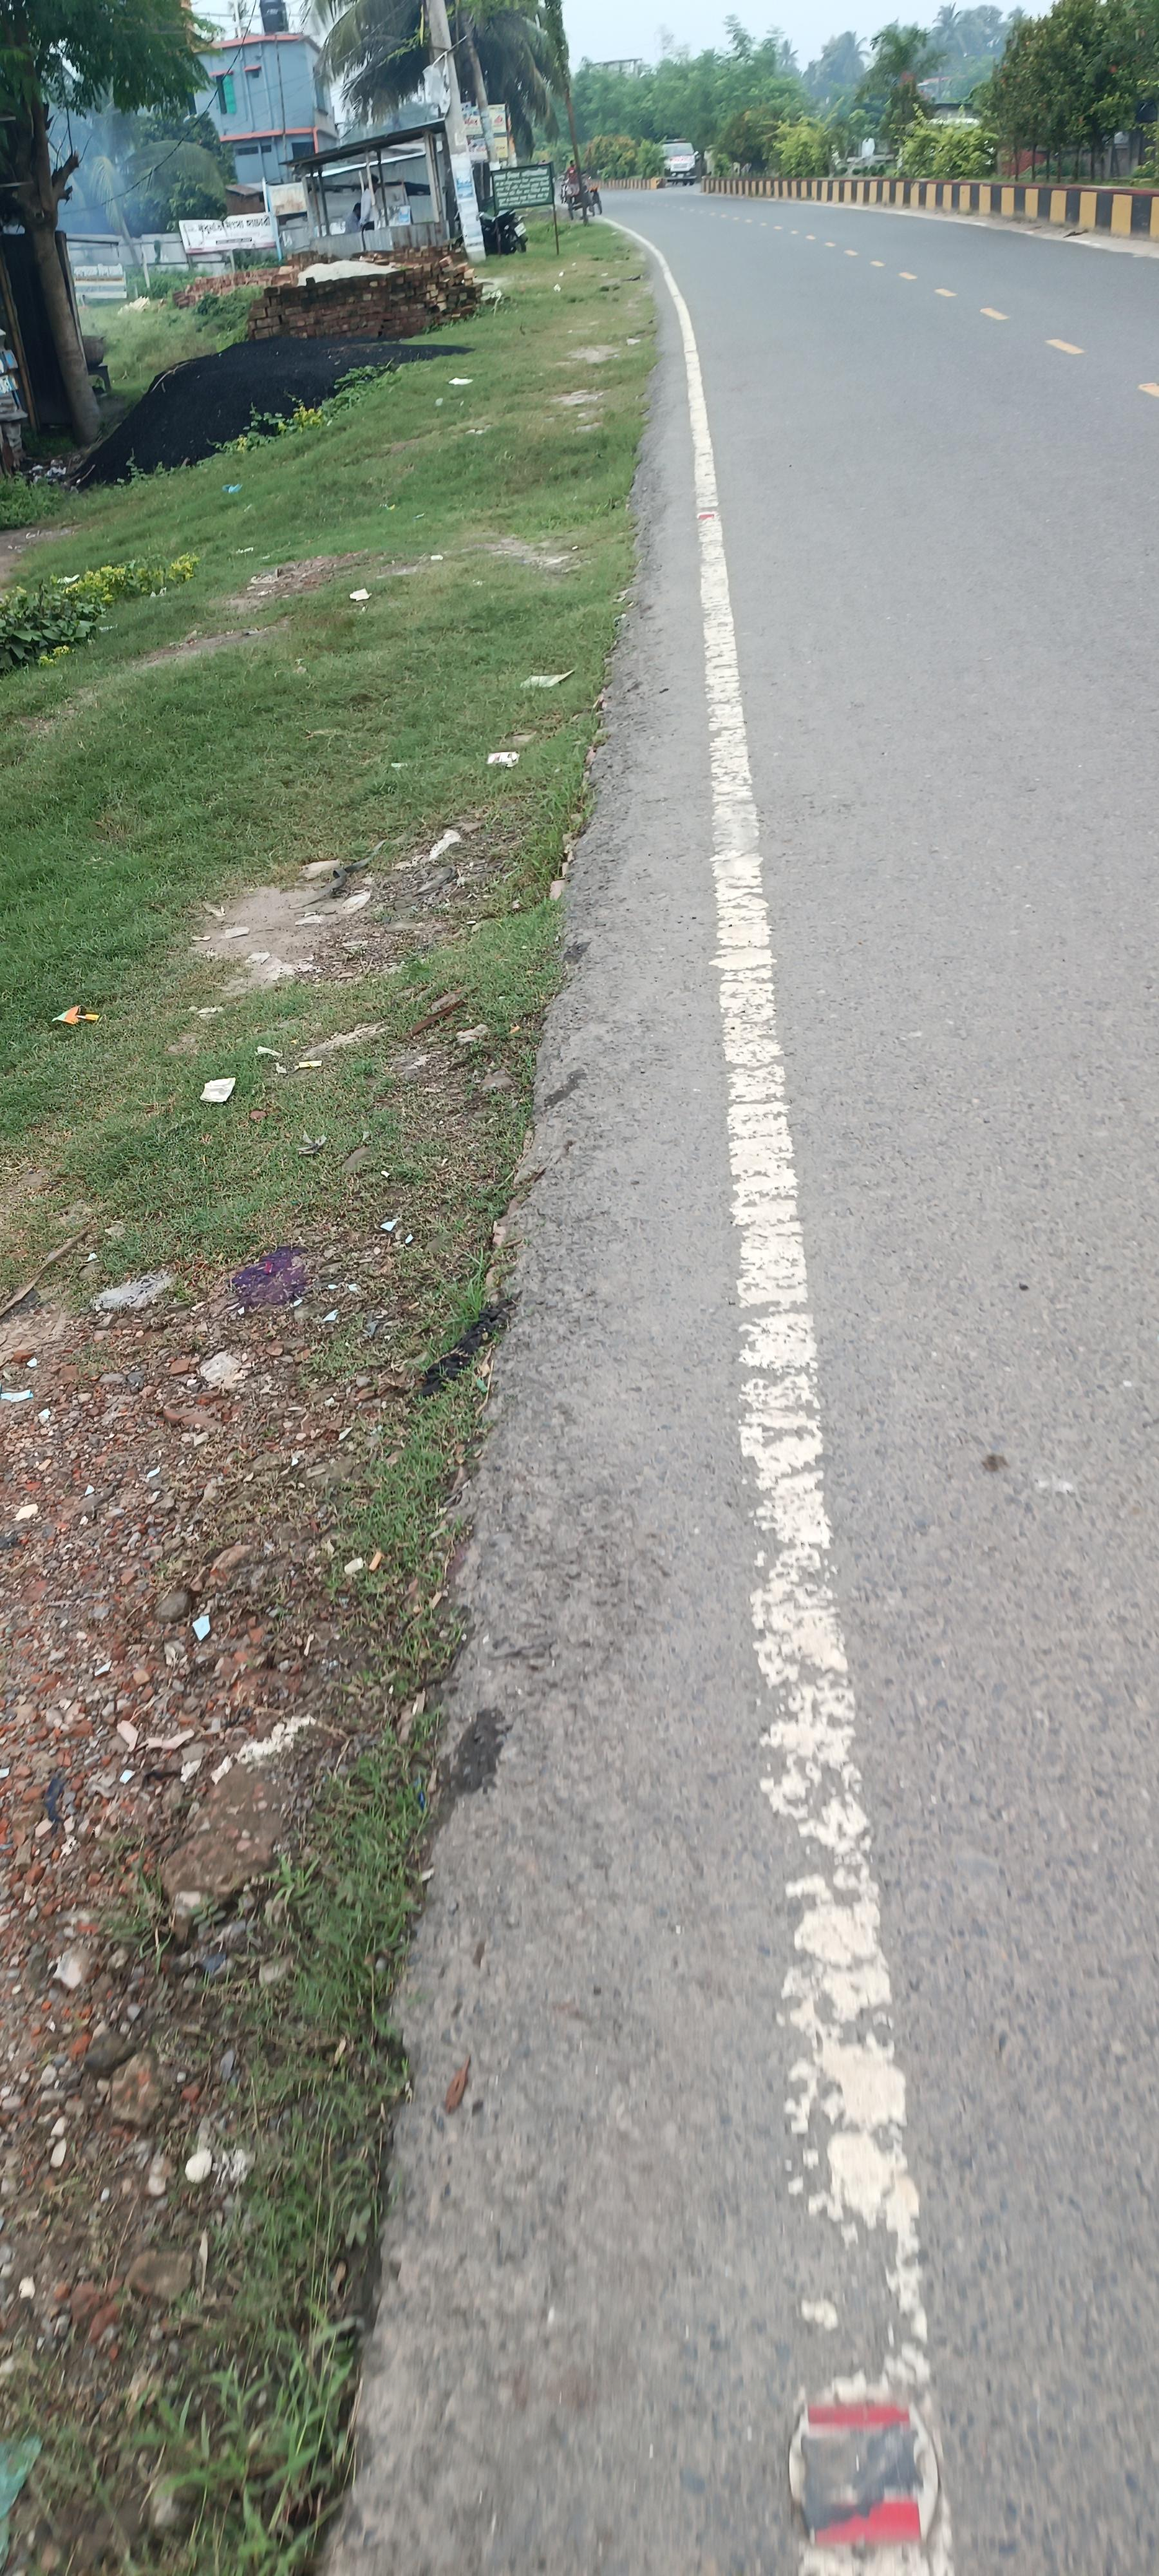Construction-barrier: (328, 572, 733, 2575), (699, 170, 1158, 238)
Traffic-cone: (660, 141, 699, 184)
